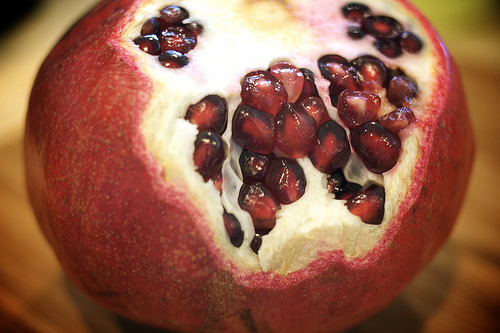pomogranate: (22, 1, 474, 331)
